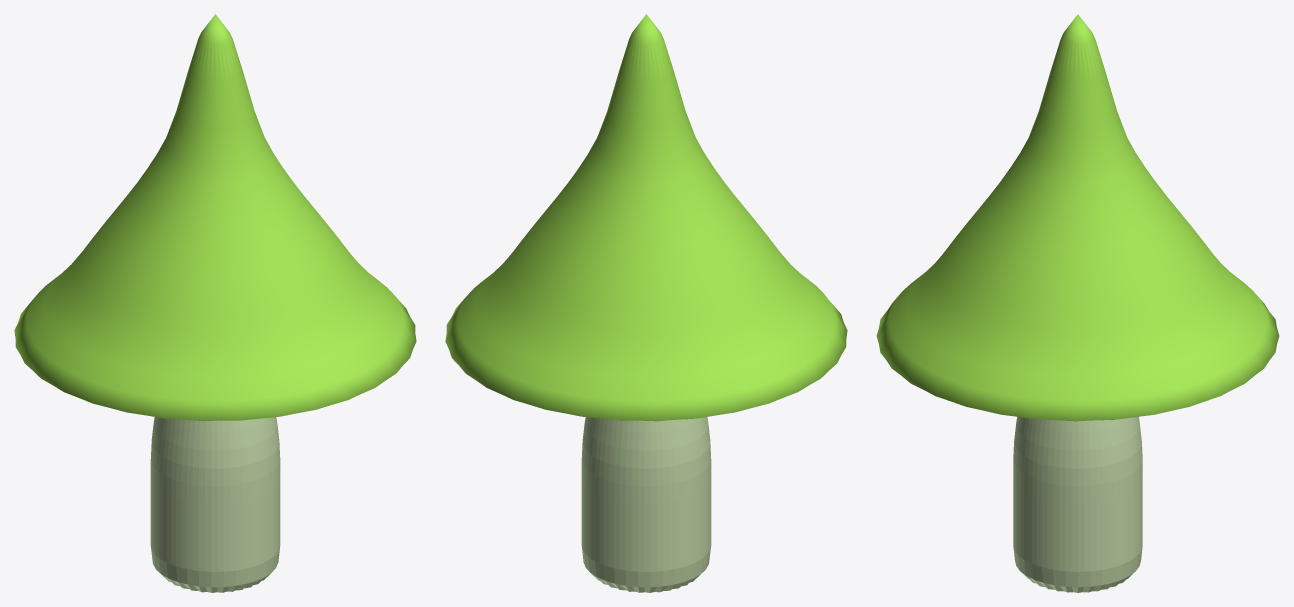
The model's file is mushL.fbx.
3 views of the same model, side by side, from view 1: azimuth 30°, elevation 25°; view 2: azimuth 150°, elevation 25°; view 3: azimuth 270°, elevation 25° (orthographic).
Parts seen in each view (by area): view 1: Cylinder.010; view 2: Cylinder.010; view 3: Cylinder.010.
Boxes of the visible parts, left/top/right/bottom form: Cylinder.010: left=14, top=14, right=416, bottom=592; Cylinder.010: left=445, top=14, right=847, bottom=592; Cylinder.010: left=876, top=14, right=1279, bottom=592.
Size of the model in its own units: 357 by 551 by 357.
